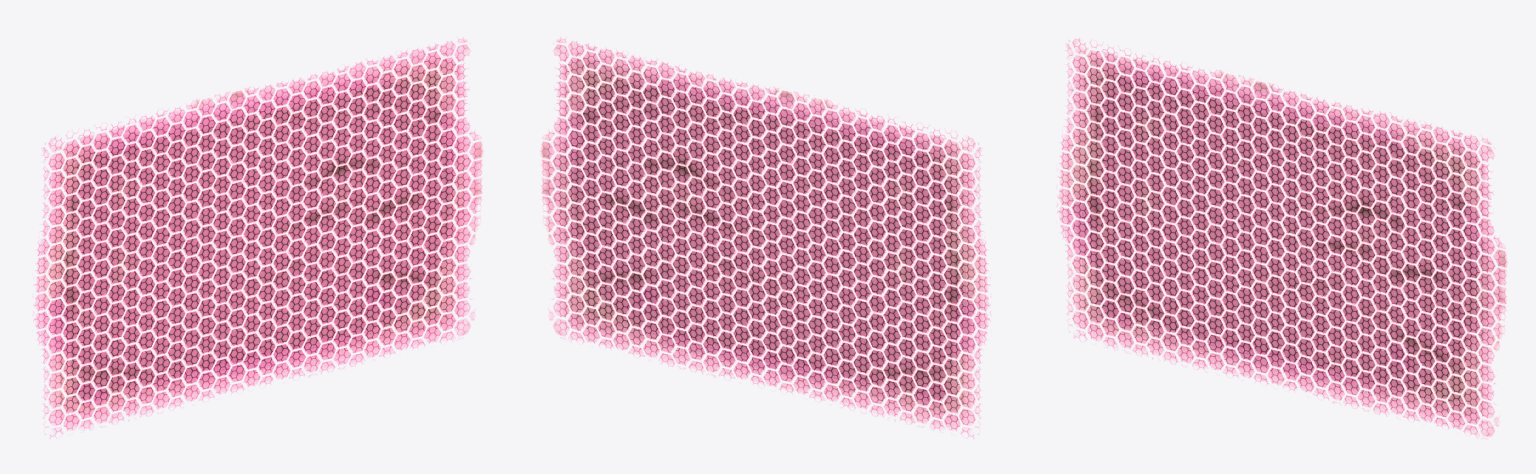
File: duchess_shield.glb
The picture shows the model from 3 angles, left to right: view 1: azimuth 30°, elevation 25°; view 2: azimuth 150°, elevation 25°; view 3: azimuth 330°, elevation 25°; orthographic projection.
Parts seen in each view (by area): view 1: force_shield.smd_0; view 2: force_shield.smd_0; view 3: force_shield.smd_0.
Boxes of the visible parts, x1,y1,x2,y2 form: force_shield.smd_0: (33,38,483,437); force_shield.smd_0: (540,38,990,437); force_shield.smd_0: (1057,38,1507,436).
Bounding box in the file's own units: 3.08 × 2.08 × 2.68e-07.
1 material, 1 textured.
